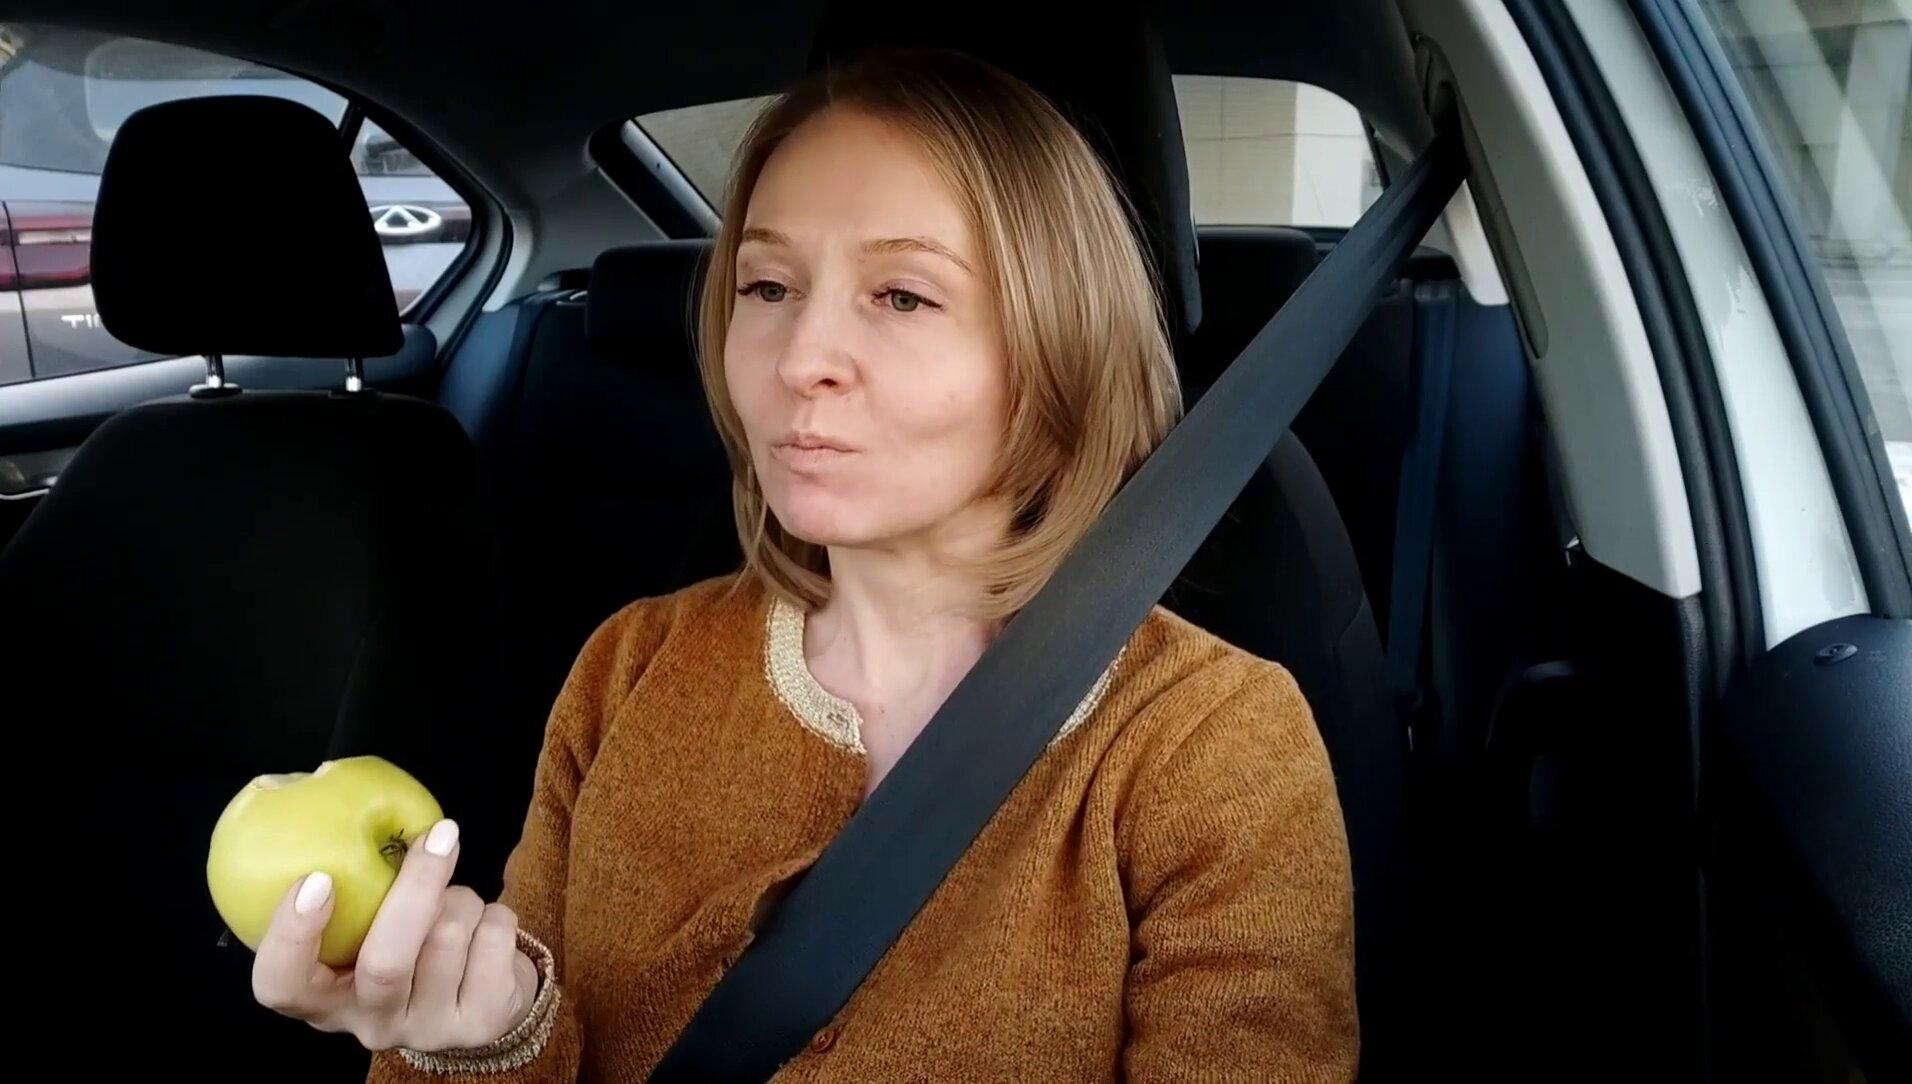Eating: (210, 741, 467, 980)
